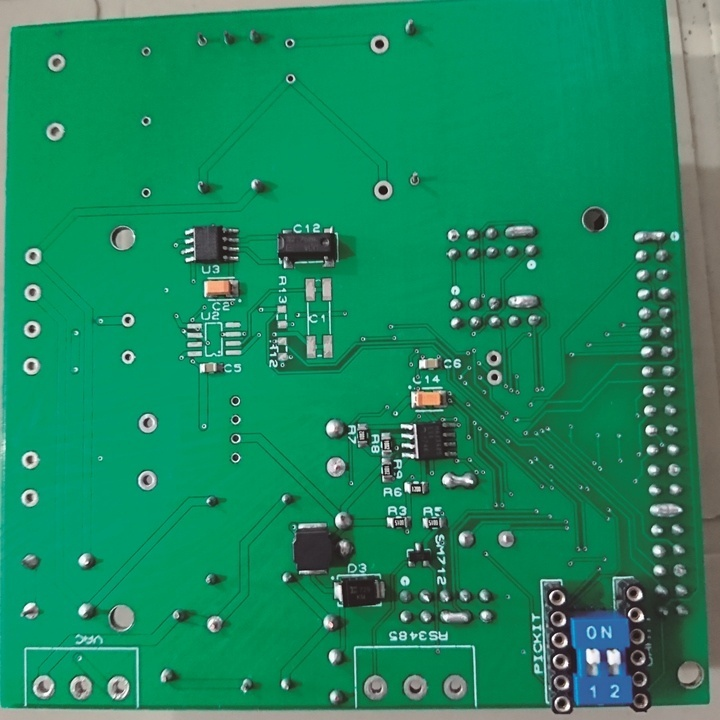F: (105, 673, 132, 704), (70, 675, 97, 704), (360, 674, 388, 701), (402, 674, 430, 700), (366, 33, 392, 59), (29, 672, 54, 699), (441, 673, 465, 699), (324, 455, 348, 479), (371, 179, 395, 201), (137, 466, 158, 491), (24, 245, 44, 269), (495, 527, 516, 549), (20, 318, 42, 338), (20, 449, 41, 469), (139, 413, 159, 434), (20, 603, 41, 623), (47, 55, 66, 75), (204, 615, 224, 634), (484, 349, 503, 369), (47, 123, 65, 144), (486, 367, 503, 389), (23, 284, 42, 303), (20, 489, 41, 506), (20, 357, 39, 375), (118, 312, 137, 329), (666, 460, 683, 478), (193, 32, 210, 48), (641, 384, 658, 400), (119, 350, 136, 366), (673, 563, 688, 580), (445, 229, 461, 244), (408, 172, 422, 189), (228, 393, 242, 409), (139, 186, 154, 200), (285, 72, 299, 86), (284, 35, 297, 49), (141, 115, 154, 129), (645, 425, 659, 438), (229, 450, 243, 463), (229, 413, 242, 426), (140, 46, 153, 58), (230, 432, 243, 444)
P: (439, 471, 481, 492), (647, 502, 686, 520), (507, 292, 543, 311), (503, 222, 537, 241), (441, 608, 473, 628), (631, 228, 670, 244)
